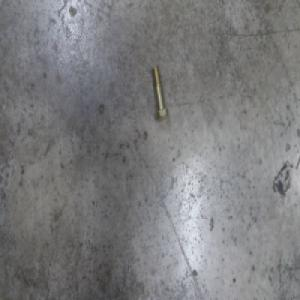Bolt: (151, 65, 169, 122)
